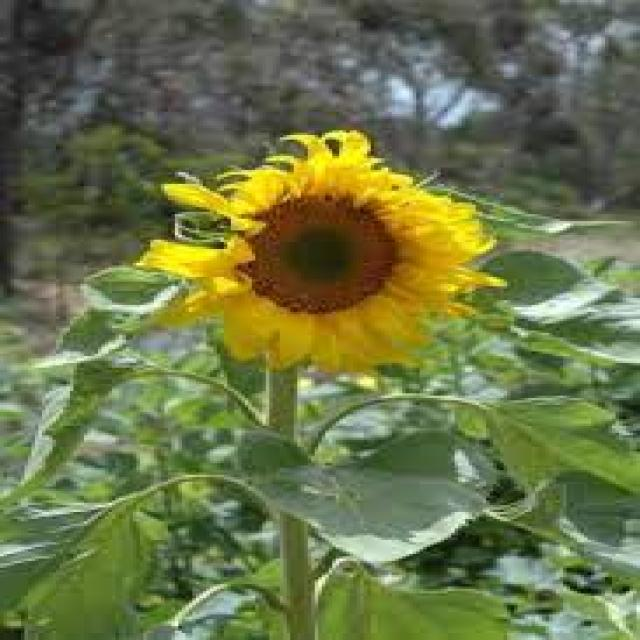sunflower: (126, 122, 520, 396)
